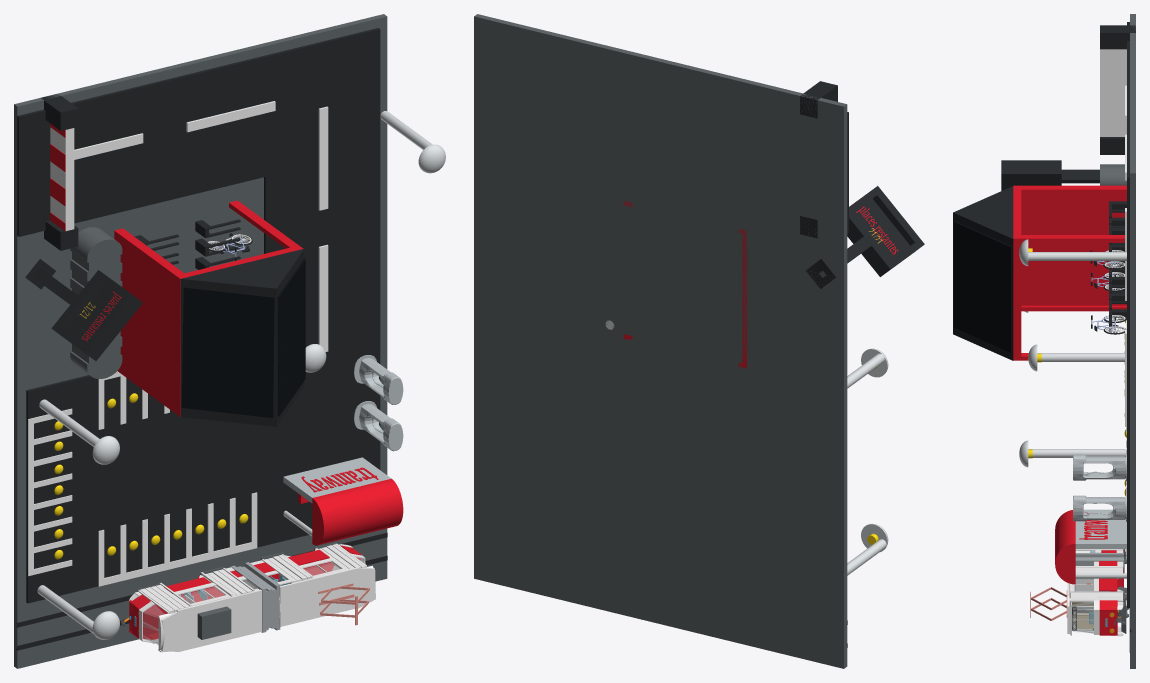
Rendered from tinker.obj.glb.
3 renders of one model, left to right at view 1: azimuth 30°, elevation 25°; view 2: azimuth 150°, elevation 25°; view 3: azimuth 270°, elevation 25°, orthographic. The views are drawn at different scales.
Parts seen in each view (by area): view 1: Asset3DLoader.sceneRoot; view 2: Asset3DLoader.sceneRoot; view 3: Asset3DLoader.sceneRoot.
Part boxes in pixels (bbox=[...]): Asset3DLoader.sceneRoot: bbox=[14, 14, 445, 668]; Asset3DLoader.sceneRoot: bbox=[474, 14, 924, 668]; Asset3DLoader.sceneRoot: bbox=[953, 14, 1135, 668].
Size of the model in its own units: 42.53 by 61 by 20.37.
